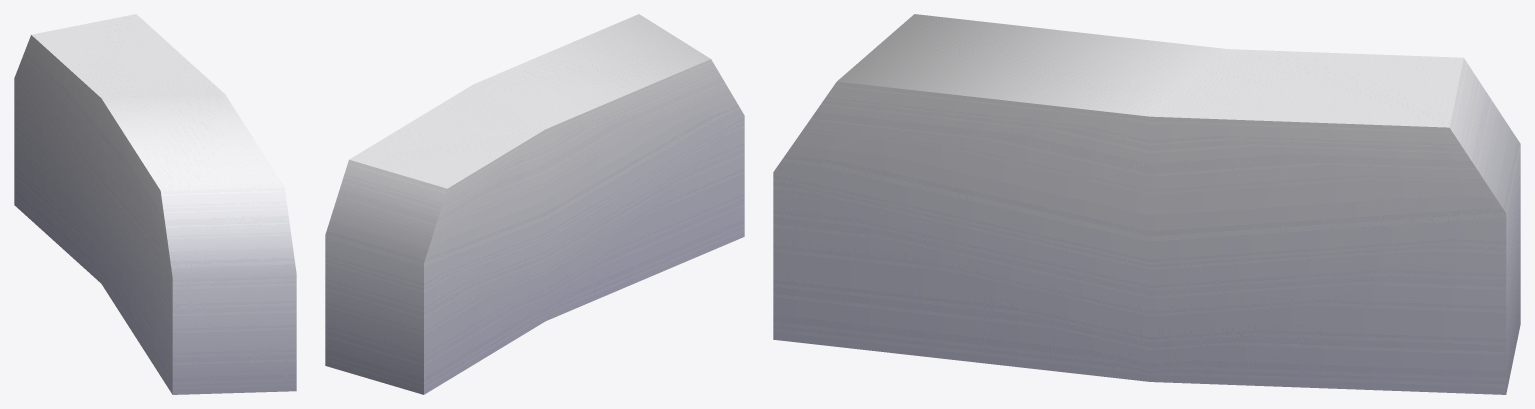
File: arm-left_lev2.glb
The picture shows the model from 3 angles, left to right: view 1: azimuth 30°, elevation 25°; view 2: azimuth 150°, elevation 25°; view 3: azimuth 270°, elevation 25°; orthographic projection. The views are drawn at different scales.
Visible parts, largest first — view 1: arm-left_lev2; view 2: arm-left_lev2; view 3: arm-left_lev2.
Part boxes in pixels (x1,y1,x2,y2): arm-left_lev2: (14, 14, 296, 394); arm-left_lev2: (325, 14, 744, 394); arm-left_lev2: (773, 14, 1520, 394).
Bounding box in the file's own units: 0.4225 × 0.4258 × 1.09.
1 material, 1 textured.
